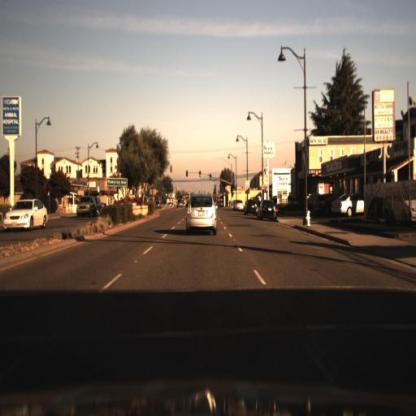car: (184, 192, 222, 246), (4, 200, 49, 233), (334, 190, 371, 218), (332, 195, 370, 222), (75, 192, 100, 221), (257, 200, 280, 227), (241, 199, 262, 219), (233, 198, 247, 216)
